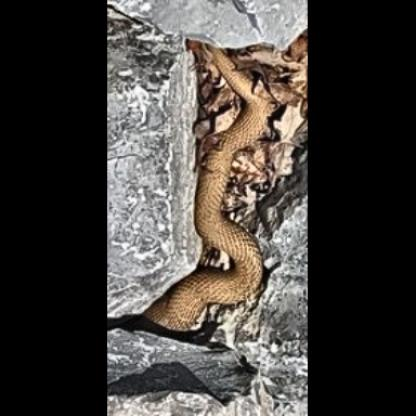Snake: (118, 9, 300, 410)
